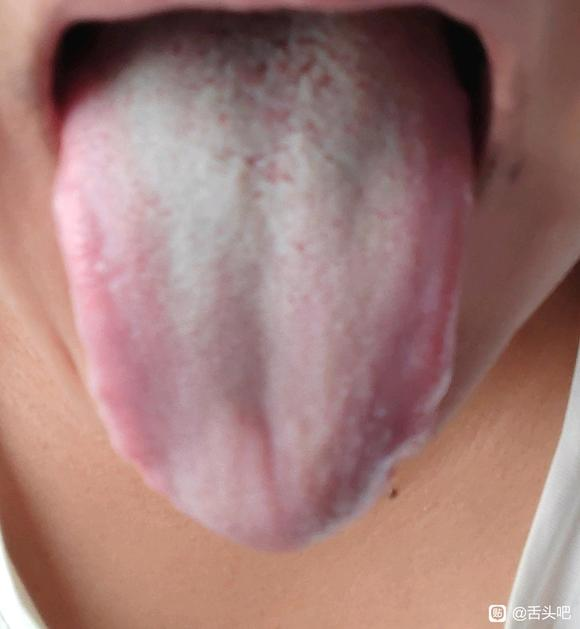baitaishe: (53, 8, 474, 551)
hongshe: (53, 8, 474, 551)
